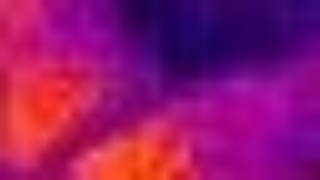Shadow: (52, 3, 320, 80), (187, 82, 320, 180), (75, 81, 187, 145), (33, 145, 89, 179)
